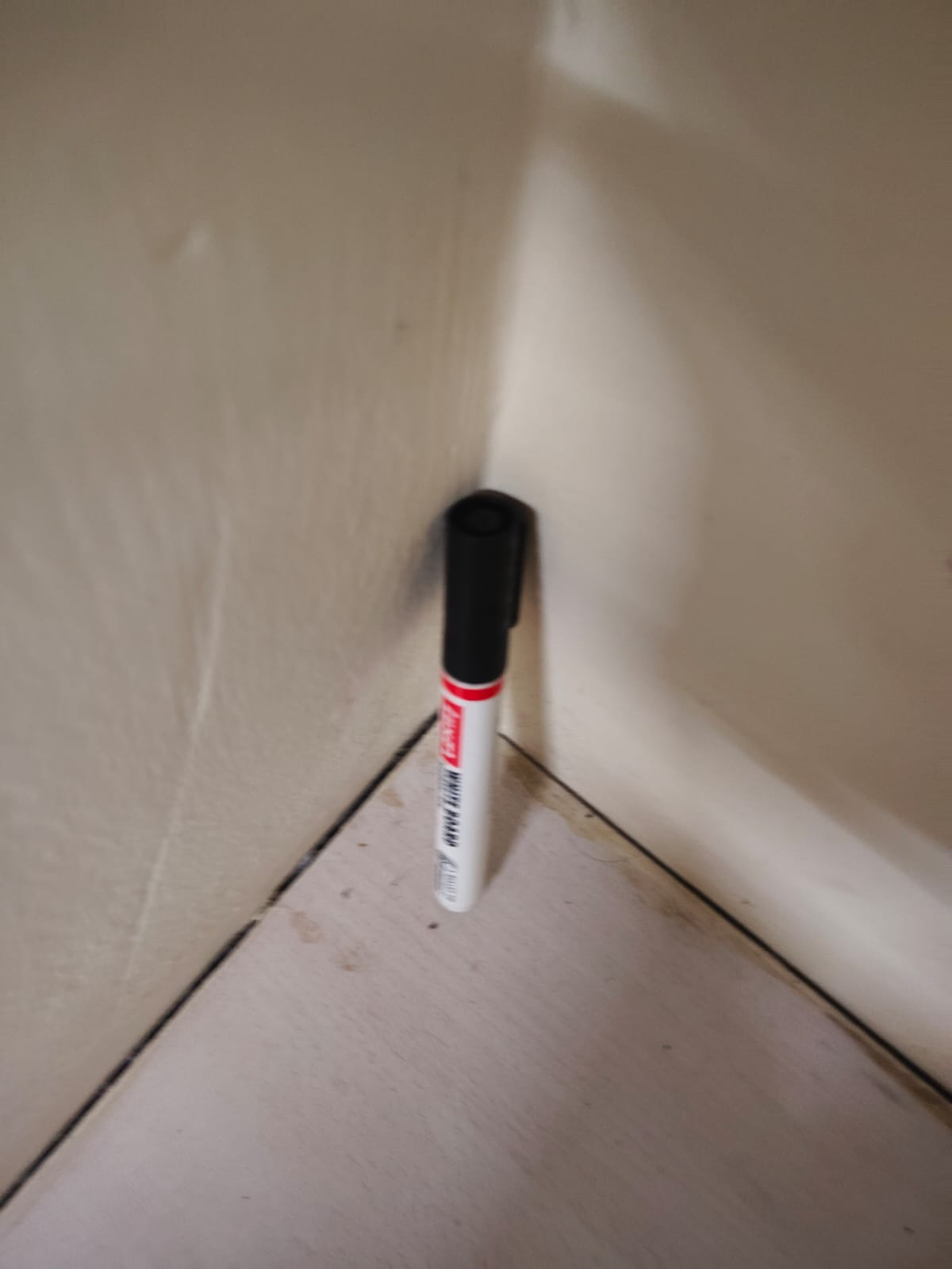case: (405, 436, 539, 927)
